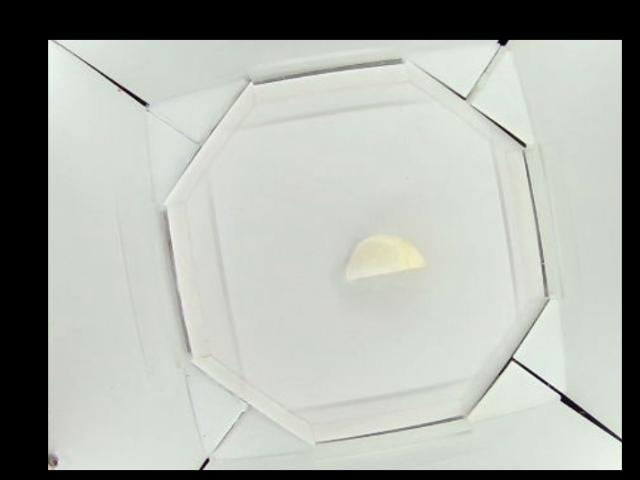Mooli: (344, 233, 422, 280)
